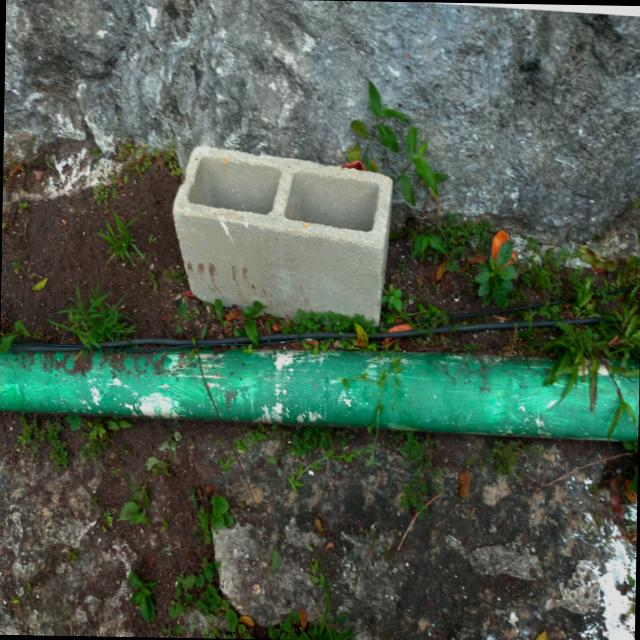gas: (0, 349, 639, 436)
